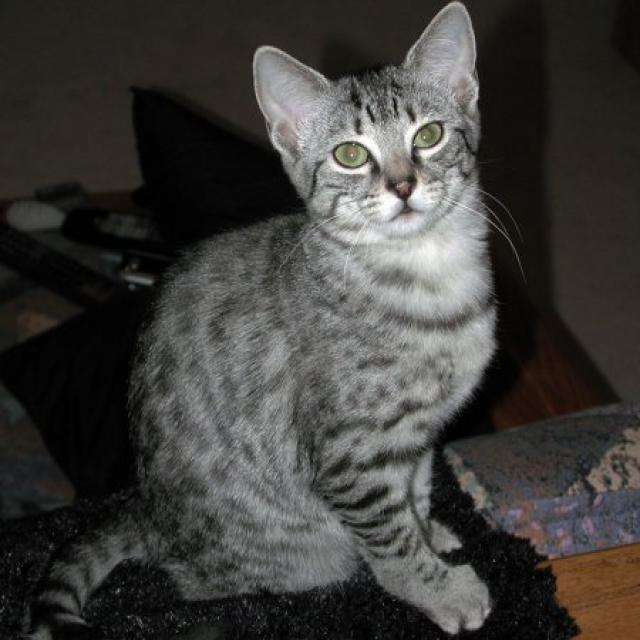Egyptian_Mau: (250, 0, 476, 238)
